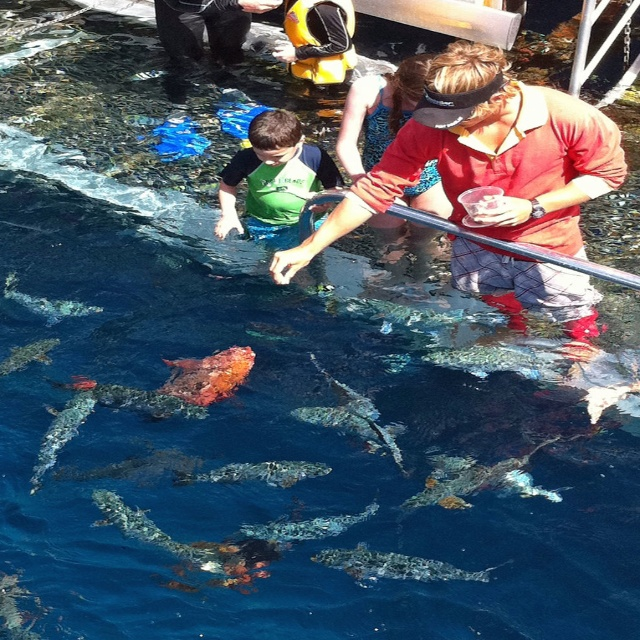Fish: (393, 433, 557, 509), (91, 486, 226, 569), (314, 538, 522, 590), (148, 338, 270, 416), (18, 391, 101, 494), (292, 406, 416, 474), (243, 490, 377, 547), (170, 456, 340, 488), (322, 298, 448, 339), (312, 354, 381, 421), (385, 347, 545, 375), (0, 288, 106, 328), (0, 337, 56, 372)
